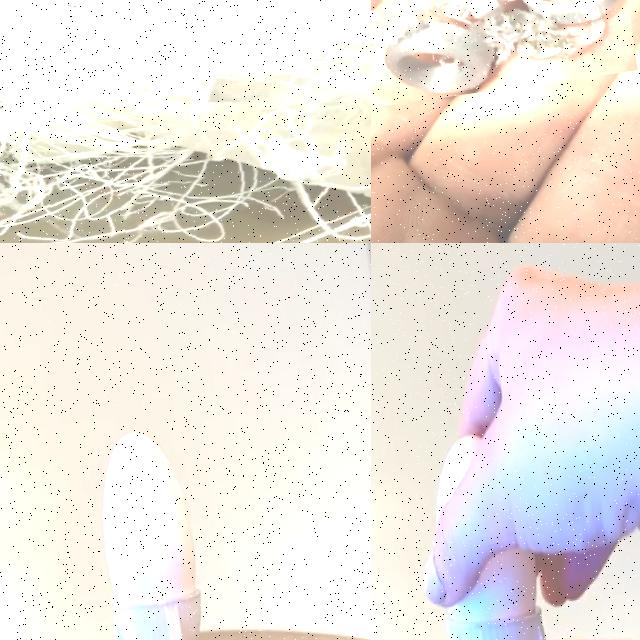spaghetti: (0, 0, 371, 243), (371, 0, 637, 110)
